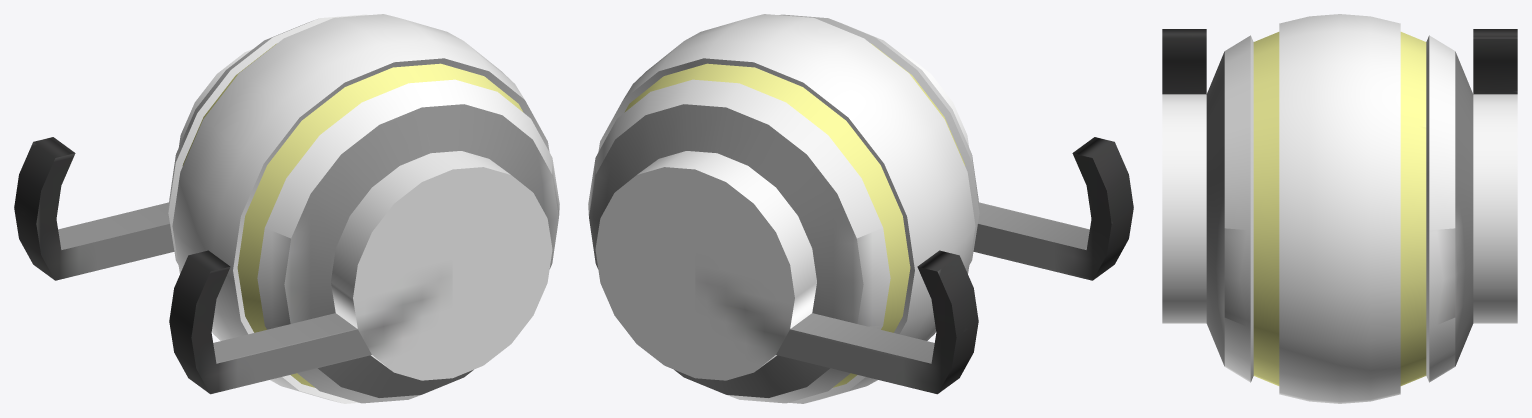
The model's file is Helm_Mesh.fbx.
3 renders of one model, left to right at view 1: azimuth 30°, elevation 25°; view 2: azimuth 150°, elevation 25°; view 3: azimuth 270°, elevation 25°, orthographic.
Visible parts, largest first — view 1: Helm_Mesh; view 2: Helm_Mesh; view 3: Helm_Mesh.
Boxes of the visible parts, box(x1,y1,x2,y2) form: Helm_Mesh: box(14, 14, 559, 403); Helm_Mesh: box(588, 14, 1133, 403); Helm_Mesh: box(1162, 14, 1517, 403).
Bounding box in the file's own units: 254 × 200 × 181.
